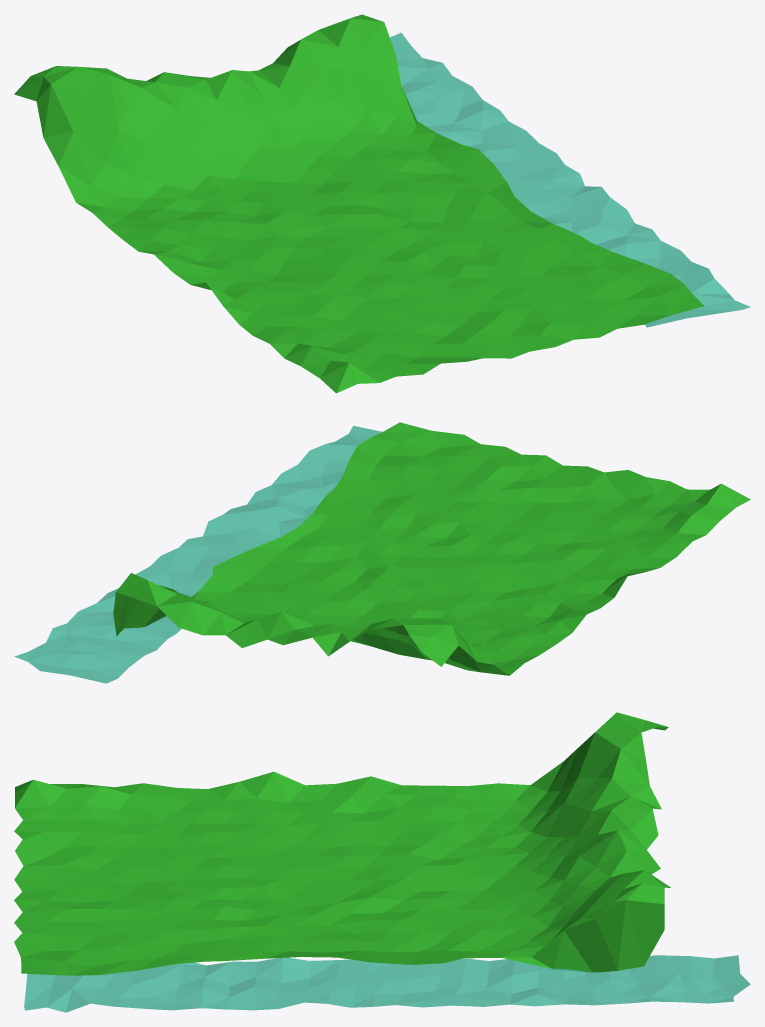
Rendered from river_new 1.FBX.
The picture shows the model from 3 angles, top to bottom: view 1: azimuth 30°, elevation 25°; view 2: azimuth 150°, elevation 25°; view 3: azimuth 270°, elevation 25°; orthographic projection. The views are drawn at different scales.
Parts seen in each view (by area): view 1: Object052, river001; view 2: Object052, river001; view 3: Object052, river001.
Boxes of the visible parts, box(x1,y1,x2,y2) form: Object052: box(14, 14, 704, 393); river001: box(390, 32, 750, 327); Object052: box(113, 422, 750, 675); river001: box(14, 425, 382, 683); Object052: box(14, 712, 670, 975); river001: box(24, 955, 750, 1012).
Bounding box in the file's own units: 506 × 119 × 753.
